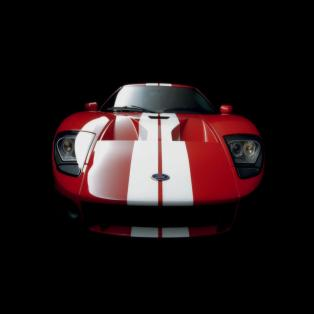Auto: (50, 82, 269, 240)
